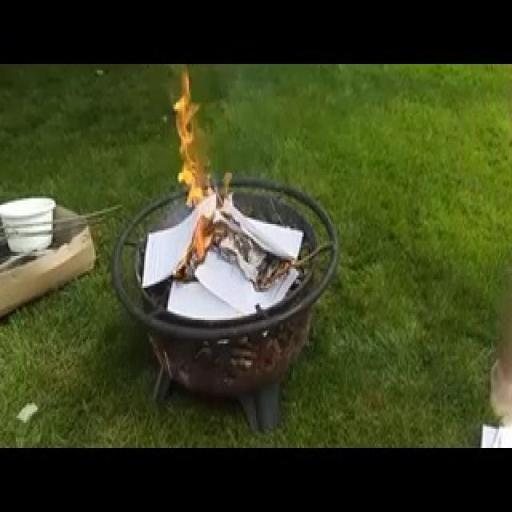smoke: (153, 85, 228, 280)
